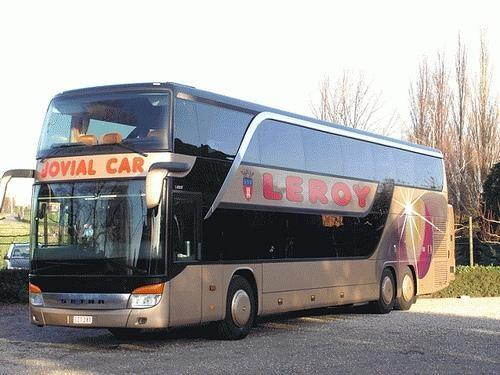bus: (0, 83, 456, 342)
car: (7, 243, 32, 272)
